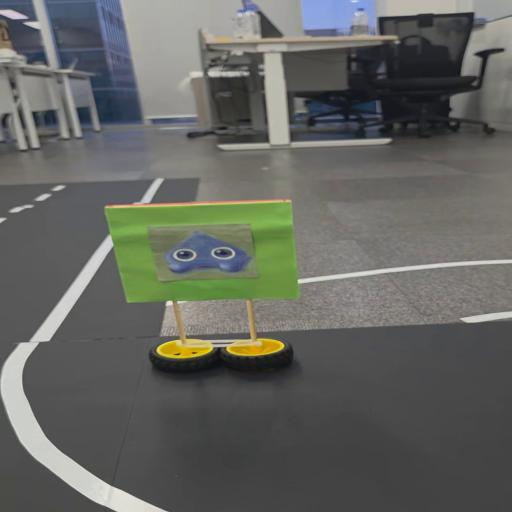Sign_B: (100, 196, 309, 368)
